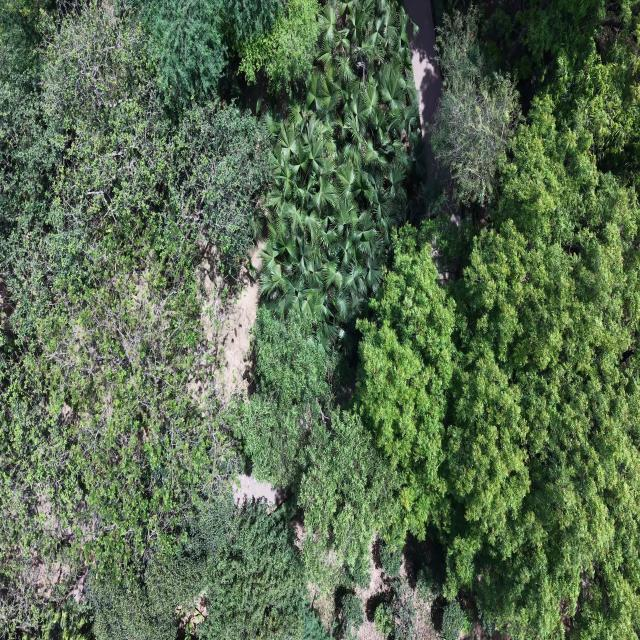DRY_AREA: (404, 0, 441, 175), (405, 0, 441, 143), (405, 0, 441, 141), (219, 275, 259, 398)
VEGETATION_TREE: (0, 0, 639, 639), (0, 3, 314, 637), (0, 4, 268, 632), (436, 82, 639, 637), (440, 99, 639, 636), (260, 0, 419, 346), (235, 307, 398, 571), (357, 226, 454, 543), (89, 497, 304, 639), (482, 0, 639, 185), (135, 0, 319, 108), (430, 7, 520, 204), (236, 308, 331, 486), (299, 410, 398, 567), (143, 0, 228, 106), (239, 0, 320, 91), (225, 0, 282, 49), (40, 603, 92, 639), (392, 587, 421, 639), (442, 602, 470, 639), (340, 592, 363, 635), (300, 608, 329, 639), (379, 541, 402, 578), (416, 566, 440, 600), (374, 602, 393, 637), (348, 558, 370, 588)
